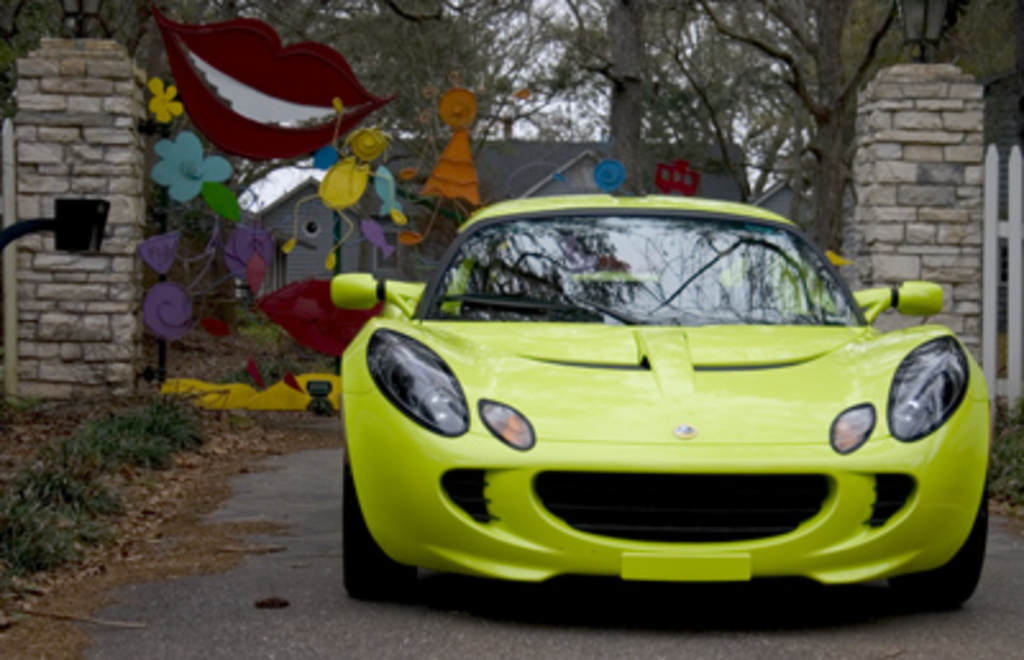Car: (291, 176, 1006, 626)
